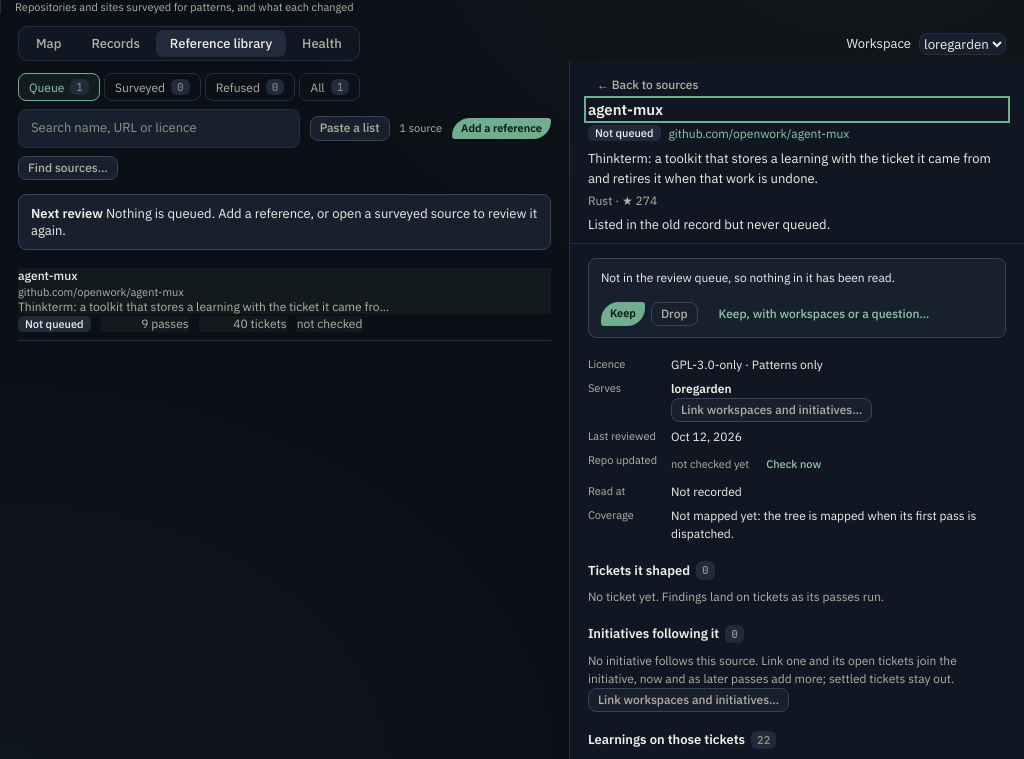
Test: adding a reference › queues a listed candidate from its own page, URL fixed
This screenshot has width=1024, height=759.
Step 1. Click the button "Keep, with workspaces or a question…" → (824, 314), box [710, 301, 938, 327]
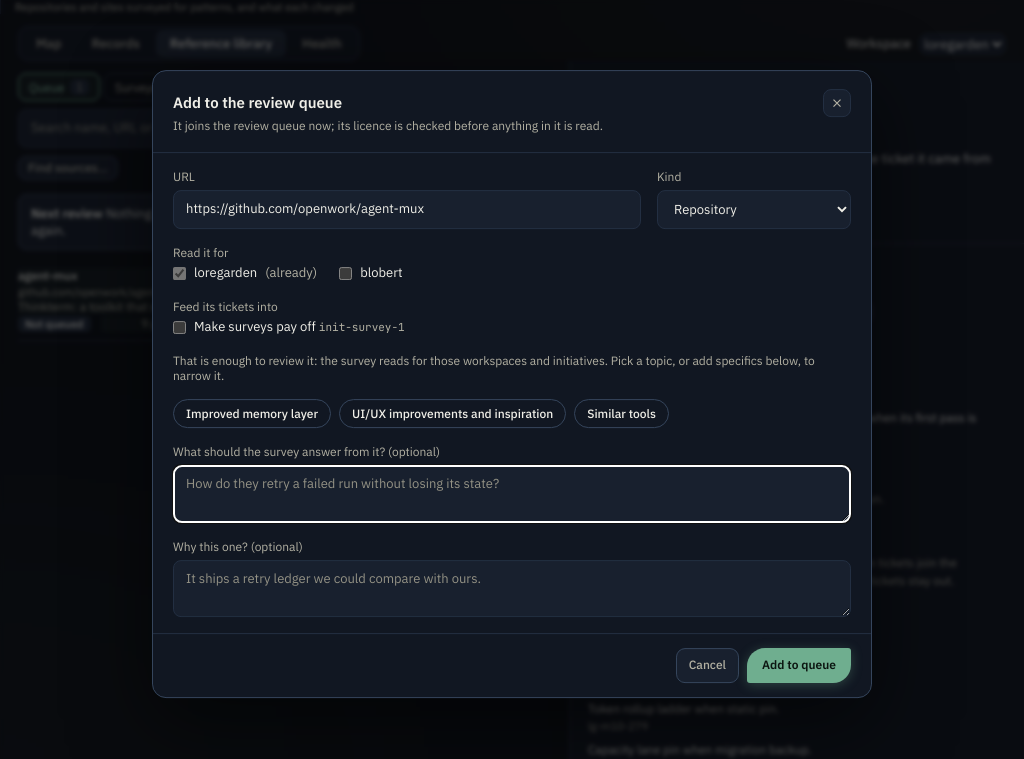
Expected: the field labelled "URL" holds "https://github.com/openwork/agent-mux", [173, 190, 641, 229]
